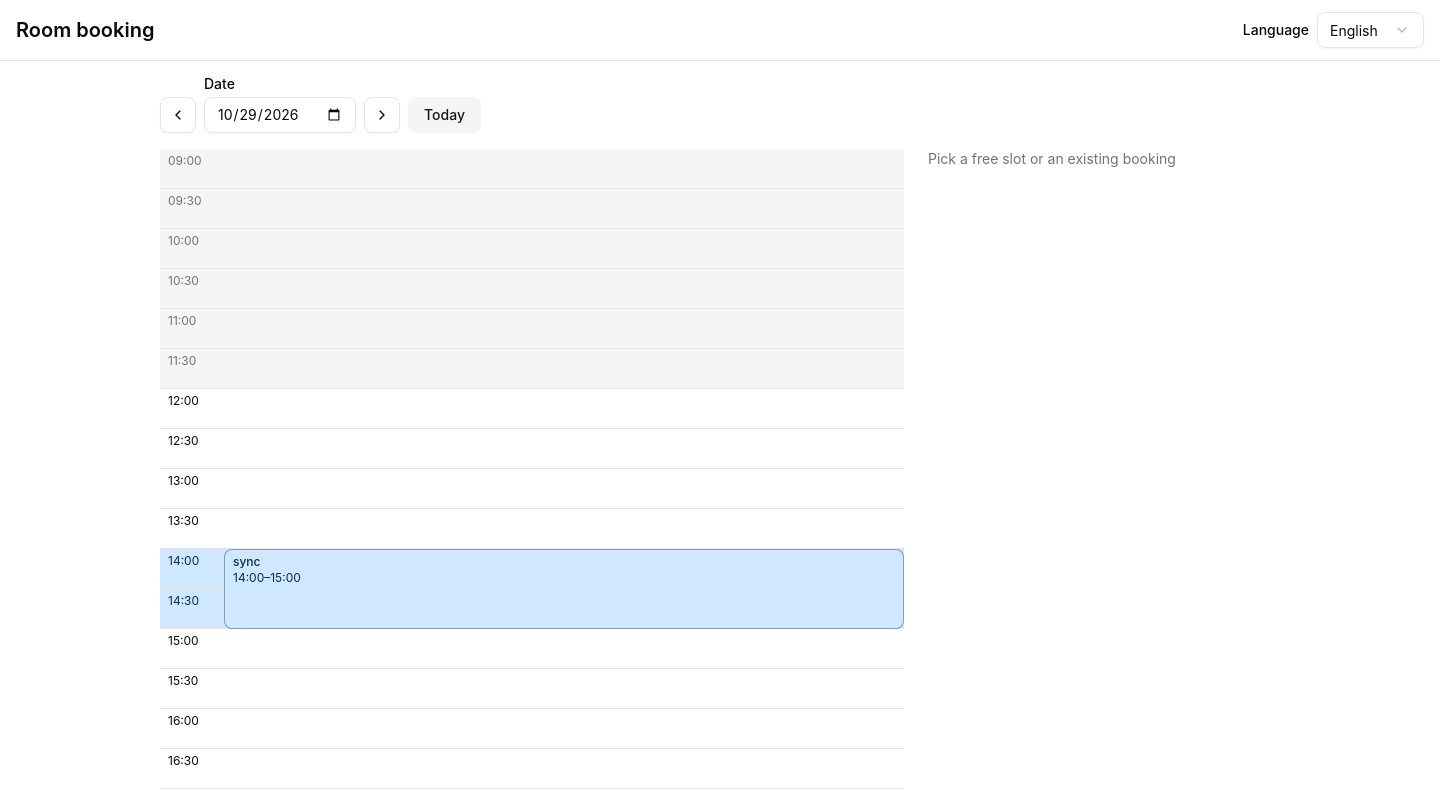
Test case: BookingScreen › changing the day › shows the next day and comes back to today
expect the button with aria-label "sync, 14:00–15:00" is shown: met, box [224, 549, 904, 629]
Click the button named "Next day".
click(382, 115)  # box [364, 97, 400, 133]
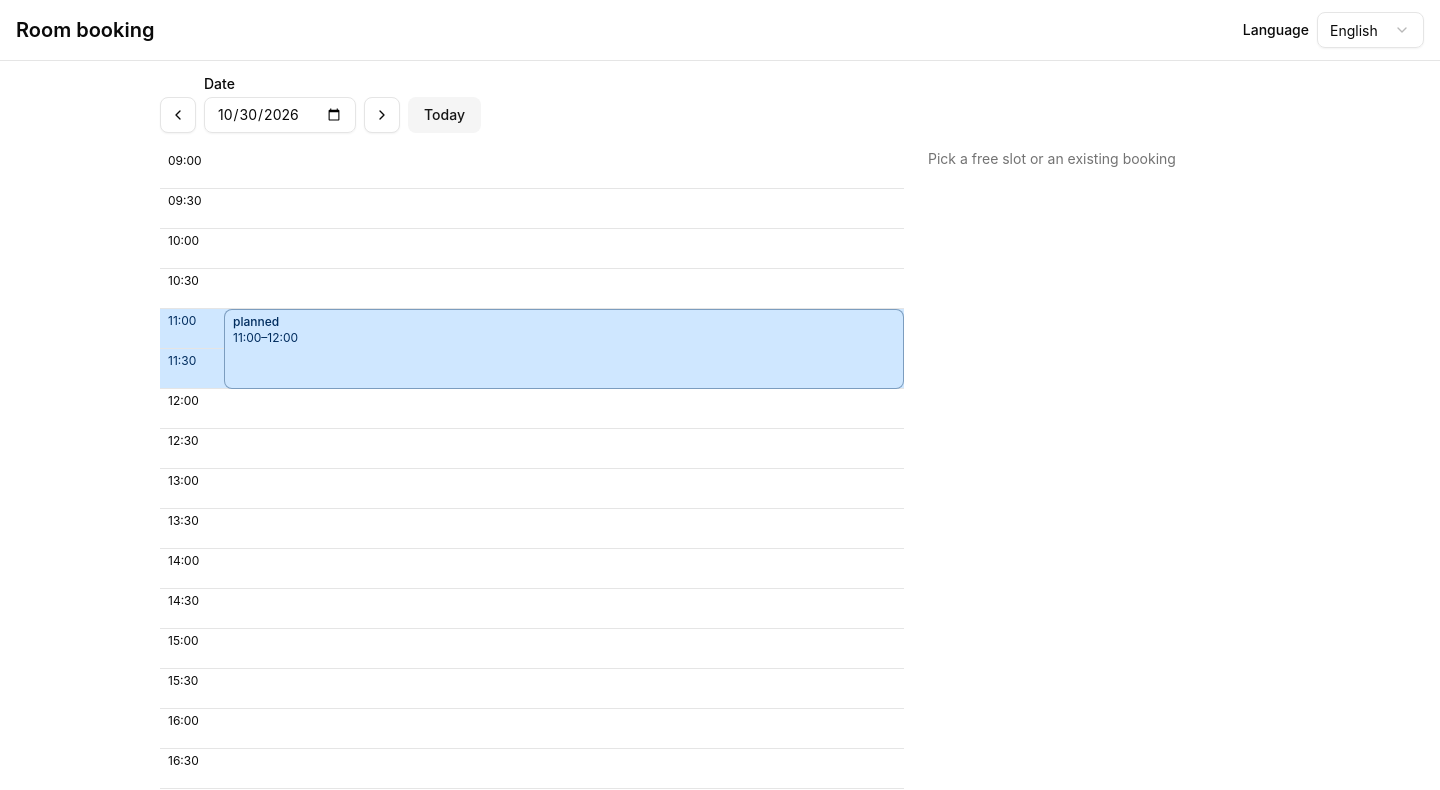
expect the button with aria-label "planned, 11:00–12:00" is shown: met, box [224, 309, 904, 389]
expect the date field labelled "Date" holds "2026-10-30": met, box [204, 97, 356, 133]
Click the button "Today".
click(444, 115)  # box [408, 97, 481, 133]
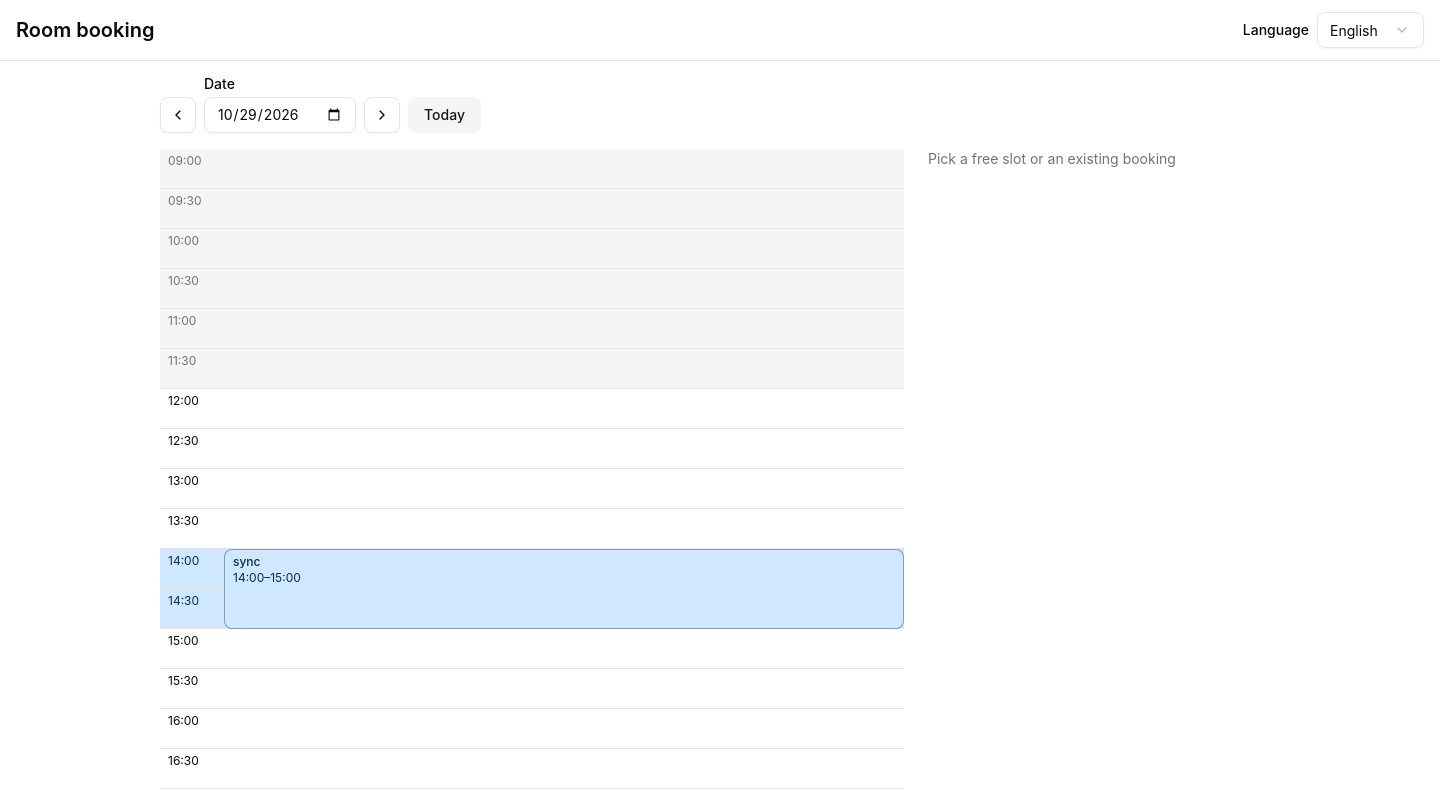
expect the button with aria-label "sync, 14:00–15:00" is shown: met, box [224, 549, 904, 629]
expect the date field labelled "Date" holds "2026-10-29": met, box [204, 97, 356, 133]
